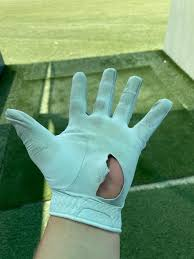defected: (3, 71, 168, 225)
